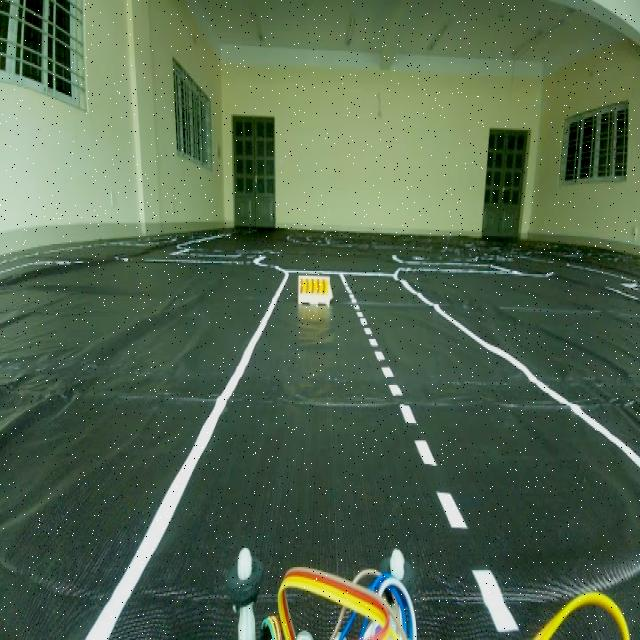roadblock: (294, 265, 336, 320)
